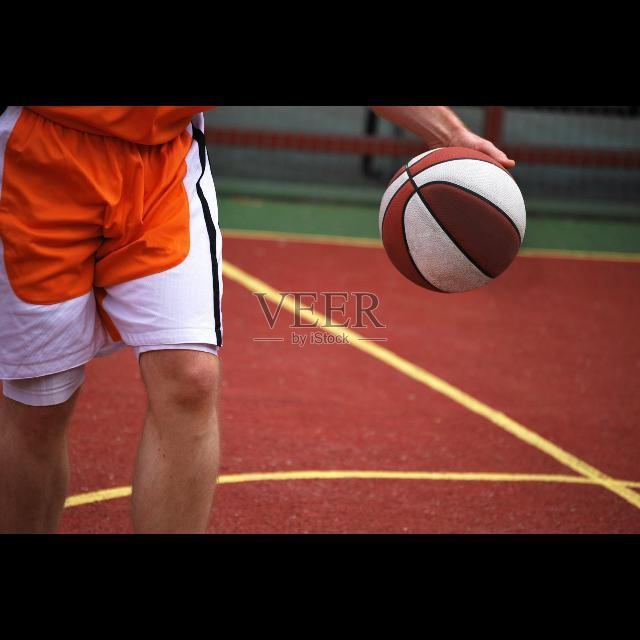basketball: (380, 146, 526, 294)
